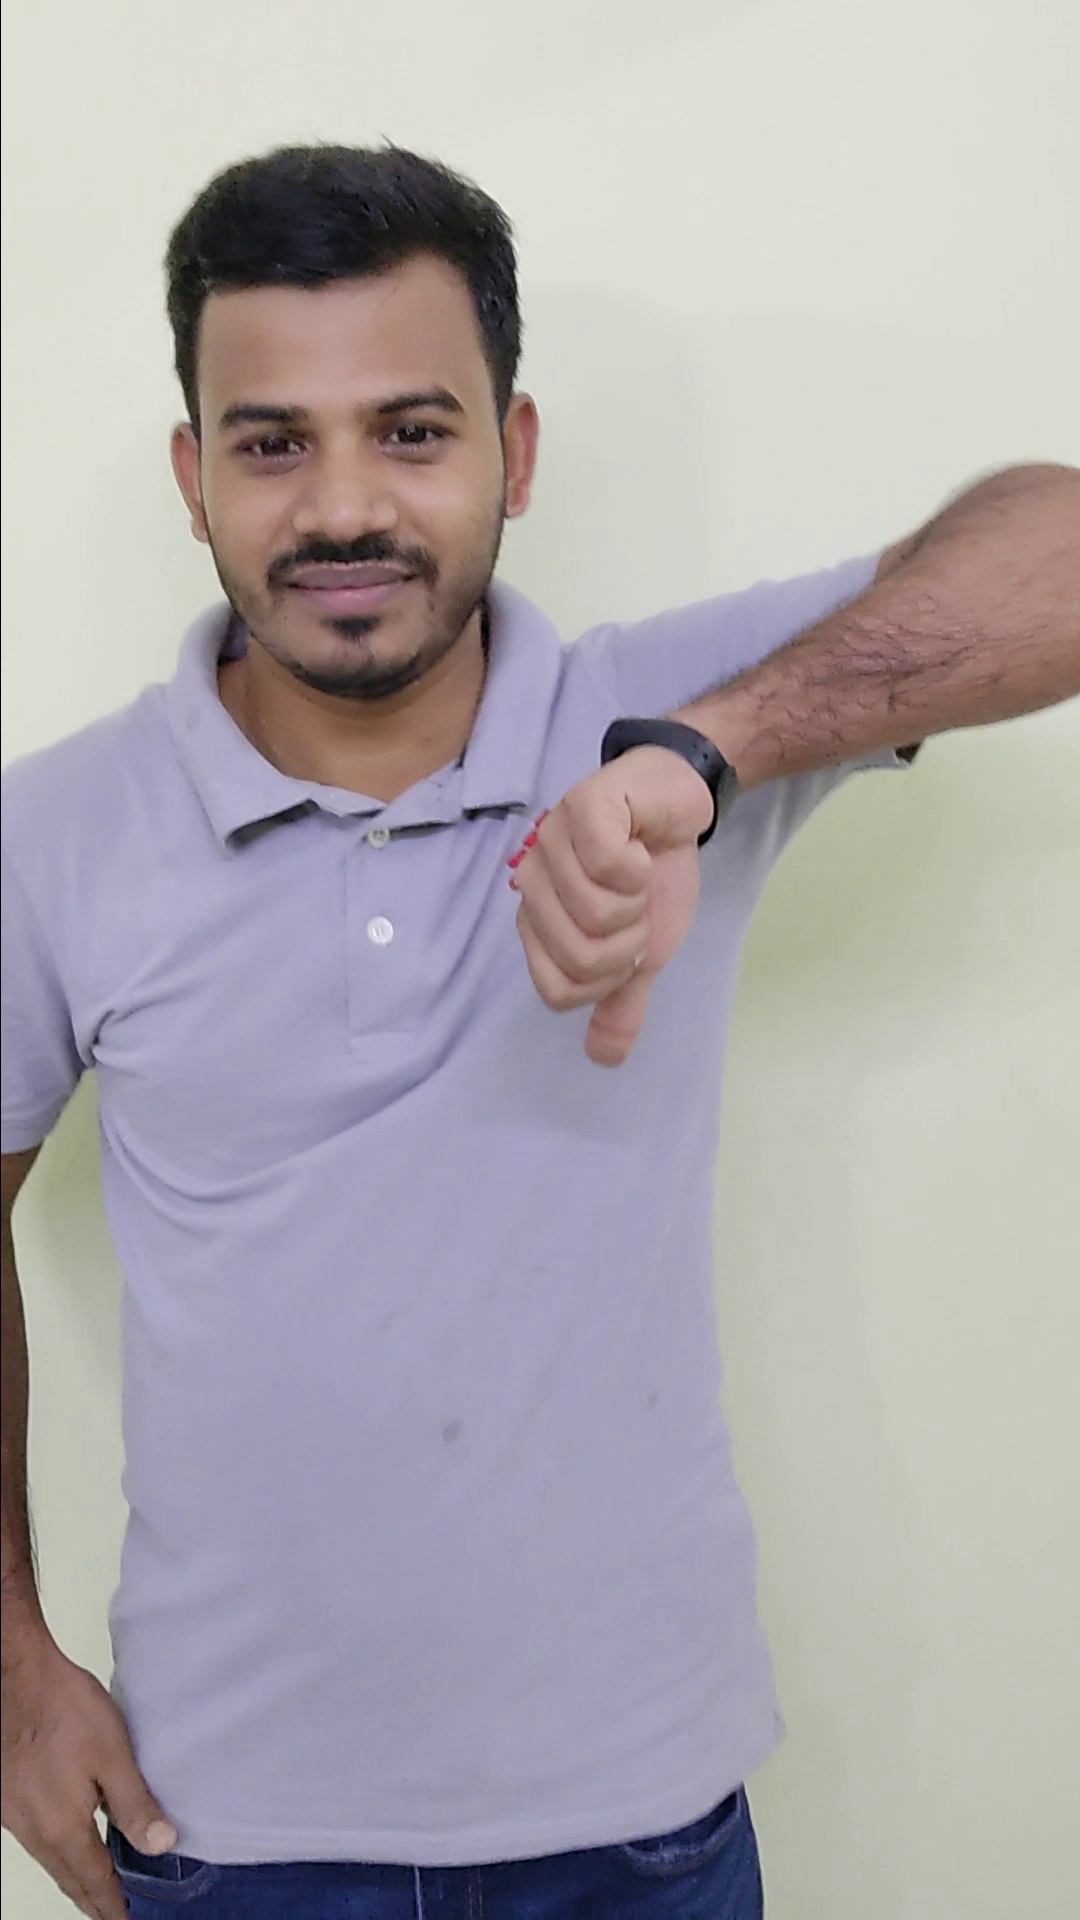Dislike: (496, 707, 724, 1081)
None: (0, 1622, 190, 1920)
